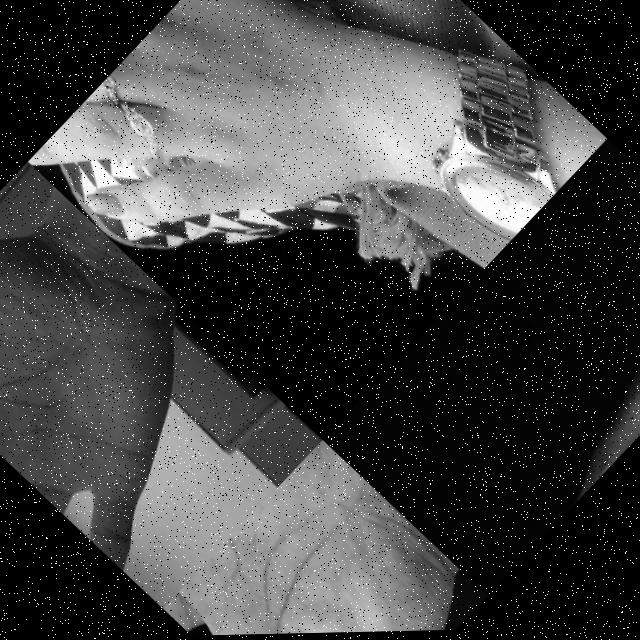hand: (27, 0, 447, 362), (343, 162, 640, 601), (0, 167, 293, 594), (162, 438, 487, 637)
